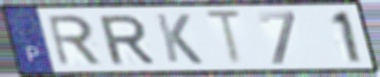1: (329, 9, 364, 64)
7: (256, 10, 298, 65)
K: (153, 12, 206, 66)
R: (44, 13, 105, 68), (96, 13, 158, 67)
T: (203, 9, 246, 68)
